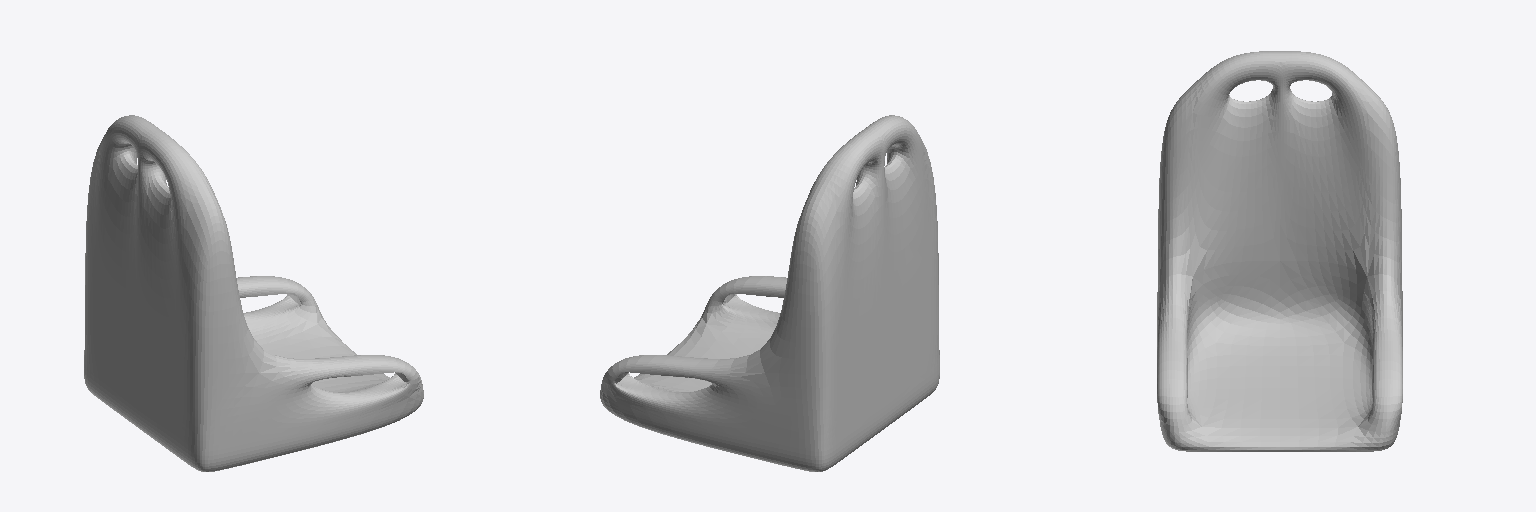
File: racing_seat_completed.obj
3 renders of one model, left to right at view 1: azimuth 30°, elevation 25°; view 2: azimuth 150°, elevation 25°; view 3: azimuth 270°, elevation 25°, orthographic.
Parts seen in each view (by area): view 1: Cylinder; view 2: Cylinder; view 3: Cylinder.
Part boxes in pixels (left/top/right/bottom): Cylinder: left=84, top=115, right=423, bottom=471; Cylinder: left=600, top=115, right=939, bottom=471; Cylinder: left=1157, top=51, right=1402, bottom=451.
Size of the model in its own units: 8.81 by 10.95 by 8.